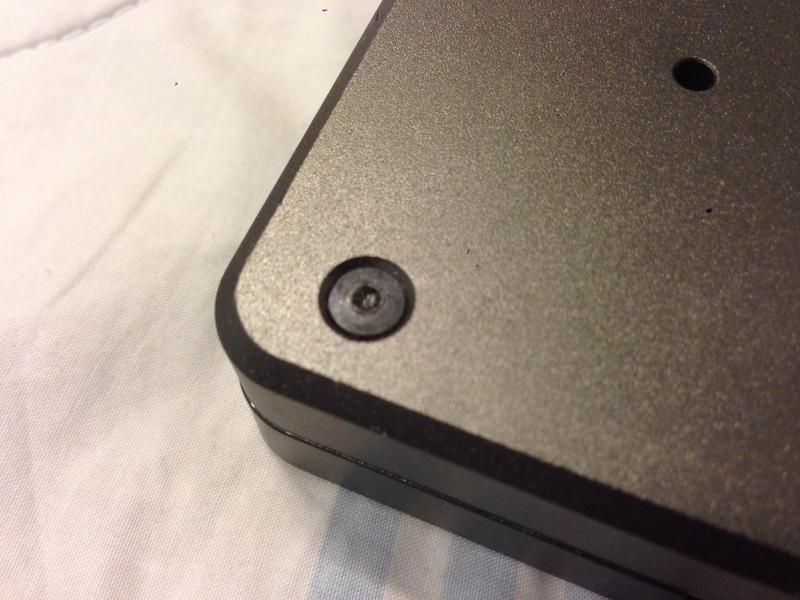hole: (668, 53, 725, 96)
screw: (315, 253, 419, 343)
